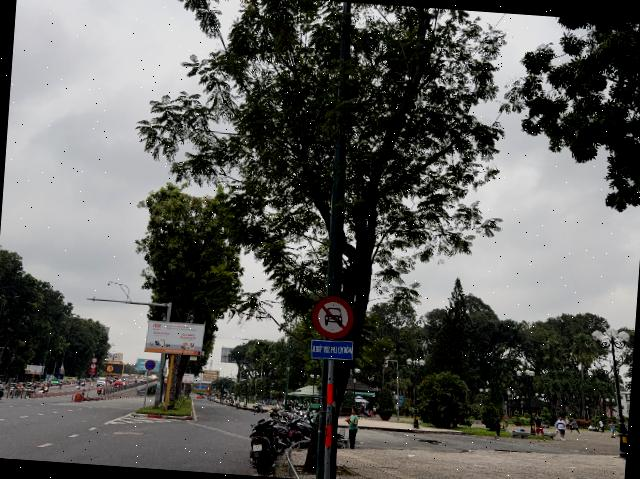cam-o-to: (310, 294, 354, 341)
